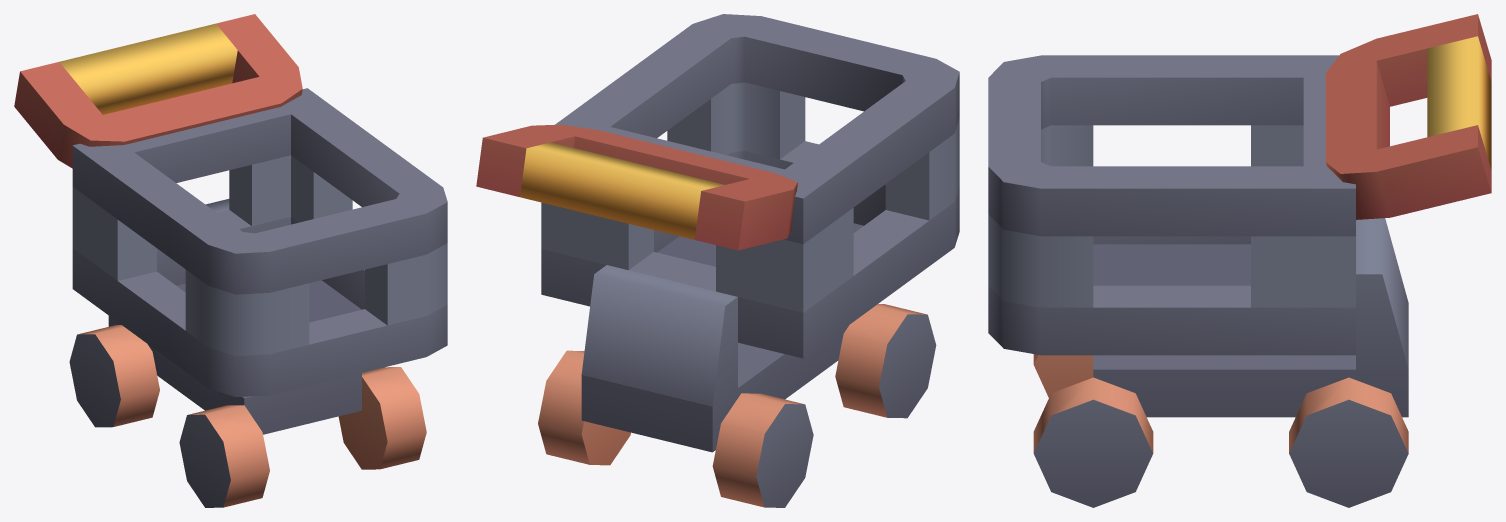
Rendered from shopping-cart.obj.
3 views of the same model, side by side, from view 1: azimuth 30°, elevation 25°; view 2: azimuth 150°, elevation 25°; view 3: azimuth 270°, elevation 25° (orthographic). The views are drawn at different scales.
Visible parts, largest first — view 1: shopping-cart; view 2: shopping-cart; view 3: shopping-cart.
Boxes of the visible parts, x1,y1,x2,y2 form: shopping-cart: (14,14,447,507); shopping-cart: (476,14,959,507); shopping-cart: (988,14,1491,507).
Bounding box in the file's own units: 0.3 × 0.3906 × 0.4789.
